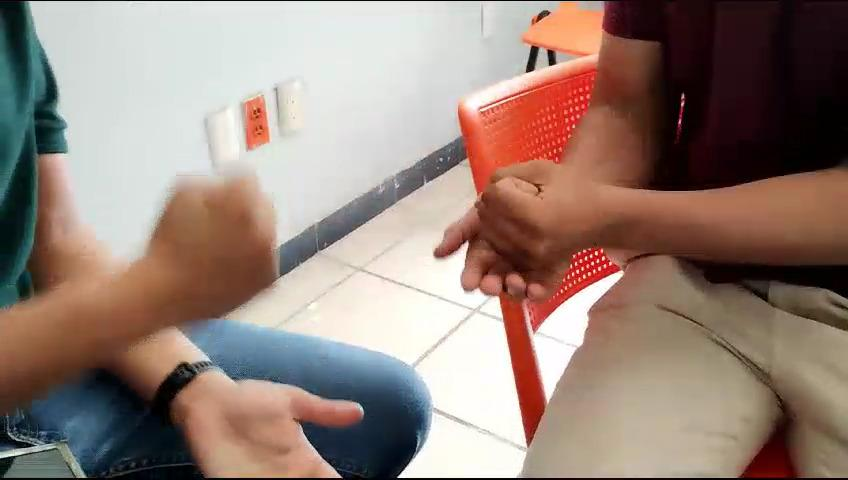Stone: (102, 146, 362, 362), (434, 112, 652, 276)
